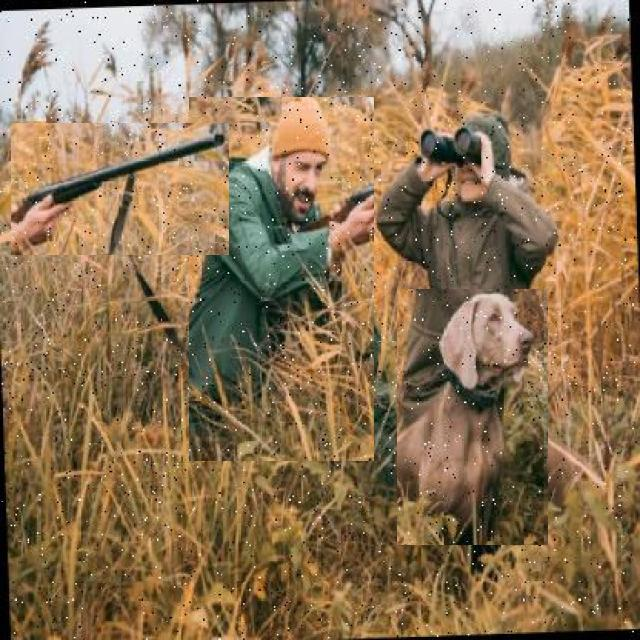p_date: (397, 289, 548, 545)
poacher: (189, 97, 374, 461), (376, 86, 584, 277)
weapon: (11, 123, 229, 255)
